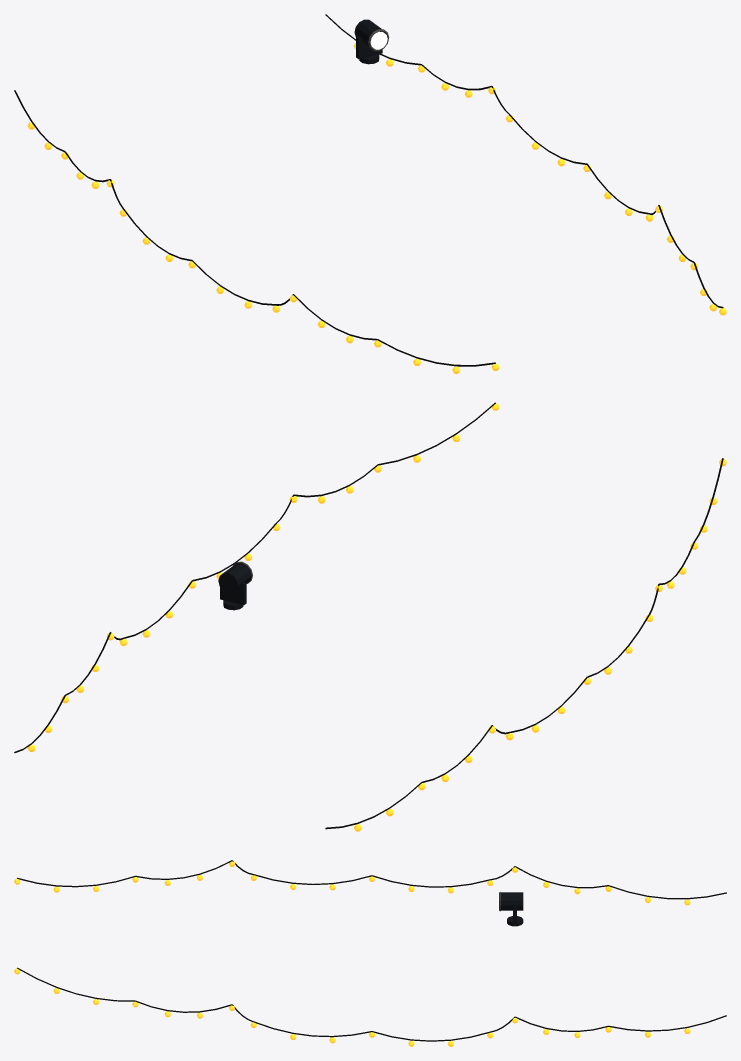
Rendered from tb_upg_deck_lights.three-web-toon.glb.
3 views of the same model, one above another, from view 1: azimuth 30°, elevation 25°; view 2: azimuth 150°, elevation 25°; view 3: azimuth 270°, elevation 25° (orthographic). The views are drawn at different scales.
Visible parts, largest first — view 1: deck_lights_strings, deck_spotlight; view 2: deck_lights_strings, deck_spotlight; view 3: deck_lights_strings, deck_spotlight.
Boxes of the visible parts, x1=… form: deck_lights_strings: x1=14, y1=14, x2=726, y2=373; deck_spotlight: x1=354, y1=19, x2=389, y2=64; deck_lights_strings: x1=14, y1=402, x2=726, y2=831; deck_spotlight: x1=218, y1=561, x2=252, y2=610; deck_lights_strings: x1=14, y1=860, x2=726, y2=1046; deck_spotlight: x1=498, y1=892, x2=523, y2=926.
Bounding box in the file's own units: 3.65 × 1.13 × 6.96.
